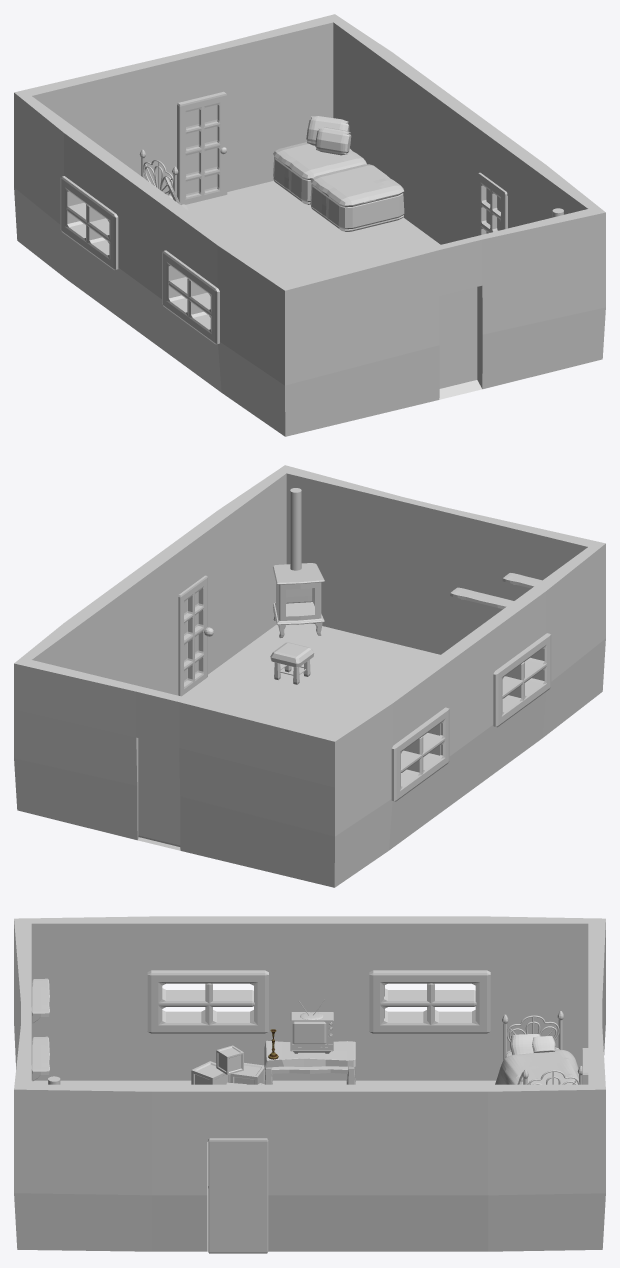
File: Horror spil rum.fbx
3 views of the same model, one above another, from view 1: azimuth 30°, elevation 25°; view 2: azimuth 150°, elevation 25°; view 3: azimuth 270°, elevation 25° (orthographic). The views are drawn at different scales.
Visible parts, largest first — view 1: Rum base, stor pude.001, dør.001, Vindue 2, VIndue 1, dør, pude; view 2: Rum base, dør.001, VIndue 1, Vindue 2, dør, fireplace, Cylinder, stol, hylde; view 3: Rum base, dør, VIndue 1, Vindue 2, dyne, bord, tv kasse, tv skærm, Flot ting til seng, kasse.003, kasser, hylde 2 (+5 smaller).
Part boxes in pixels (x1,y1,x2,y2): Rum base: (14, 14, 605, 436); stor pude.001: (273, 142, 404, 231); dør.001: (177, 91, 227, 204); Vindue 2: (60, 176, 118, 270); VIndue 1: (162, 250, 219, 344); dør: (478, 172, 507, 235); pude: (306, 116, 351, 155); Rum base: (14, 465, 605, 887); dør.001: (138, 738, 180, 846); VIndue 1: (493, 633, 551, 727); Vindue 2: (391, 707, 449, 801); dør: (178, 575, 207, 696); fireplace: (273, 563, 324, 625); Cylinder: (290, 488, 301, 570); stol: (270, 642, 314, 667); hylde: (450, 587, 513, 608); Rum base: (14, 916, 605, 1251); dør: (208, 1138, 268, 1253); VIndue 1: (147, 970, 268, 1033); Vindue 2: (369, 970, 490, 1033); dyne: (495, 1050, 578, 1084); bord: (264, 1040, 355, 1067); tv kasse: (290, 1012, 333, 1053); tv skærm: (292, 1021, 326, 1044); Flot ting til seng: (507, 1015, 579, 1084); kasse.003: (191, 1061, 230, 1084); kasser: (216, 1045, 243, 1074); hylde 2: (31, 978, 49, 1016).
Bounding box in the file's own units: 1408 × 604 × 1973.
